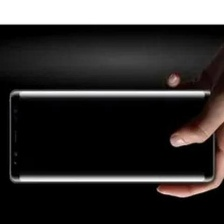phone: (5, 86, 219, 186)
